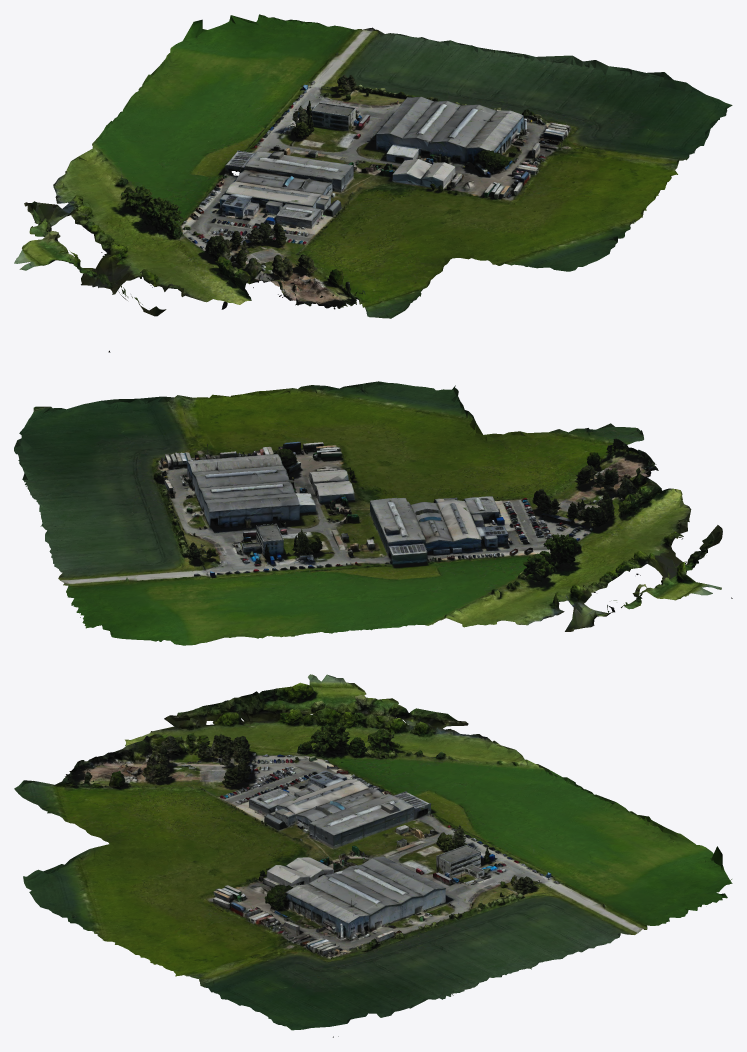
File: verovany-ar.glb
3 views of the same model, one above another, from view 1: azimuth 30°, elevation 25°; view 2: azimuth 150°, elevation 25°; view 3: azimuth 270°, elevation 25° (orthographic). The views are drawn at different scales.
Size of the model in its own units: 532 by 70.25 by 454.
Materials: 1 (1 with a texture image).
